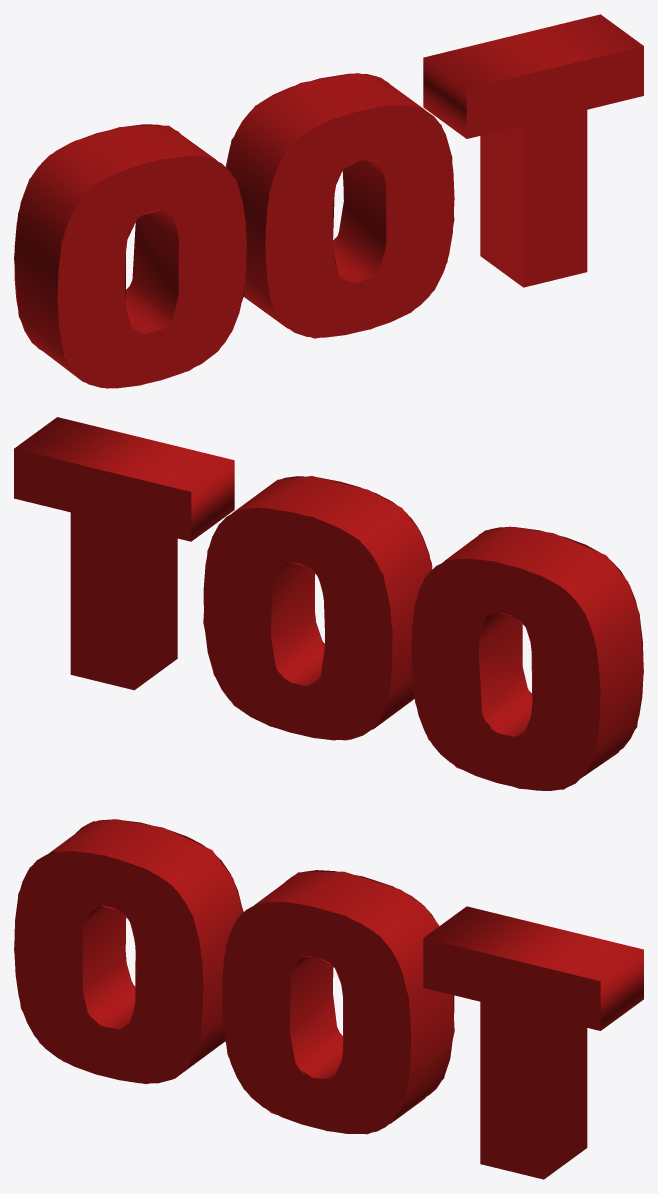
File: too.fbx
3 views of the same model, one above another, from view 1: azimuth 30°, elevation 25°; view 2: azimuth 150°, elevation 25°; view 3: azimuth 330°, elevation 25° (orthographic).
Visible parts, largest first — view 1: Text; view 2: Text; view 3: Text.
Boxes of the visible parts, <box> form: Text: <box>14,14,643,388</box>; Text: <box>14,417,643,790</box>; Text: <box>14,819,643,1179</box>.
Size of the model in its own units: 6.25 by 2.26 by 0.8.
